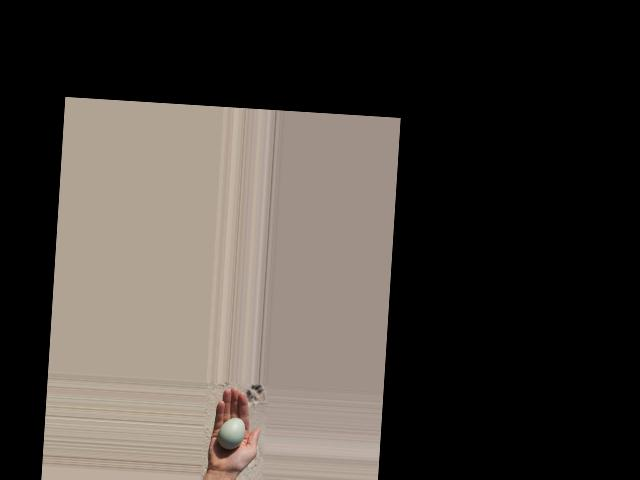egg: (216, 417, 245, 449)
